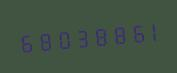eight: (35, 24, 52, 56), (89, 19, 106, 51), (107, 18, 124, 49)
one: (143, 15, 160, 46)
six: (125, 16, 142, 48), (17, 26, 34, 57)
three: (71, 21, 88, 52)
zero: (53, 23, 70, 54)
